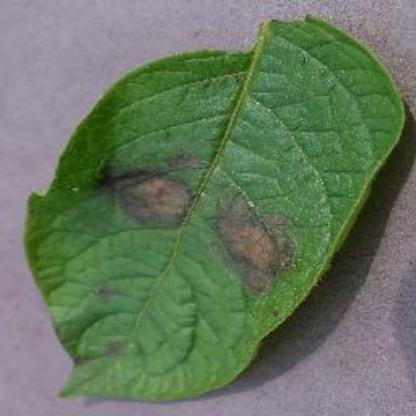Late-Blight: (18, 10, 408, 406)
